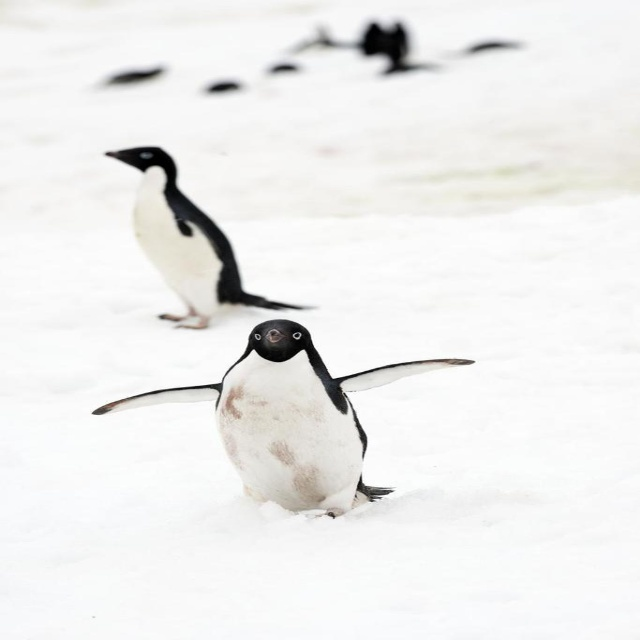Penguin: (98, 319, 473, 513), (99, 152, 301, 328), (368, 23, 414, 69)
